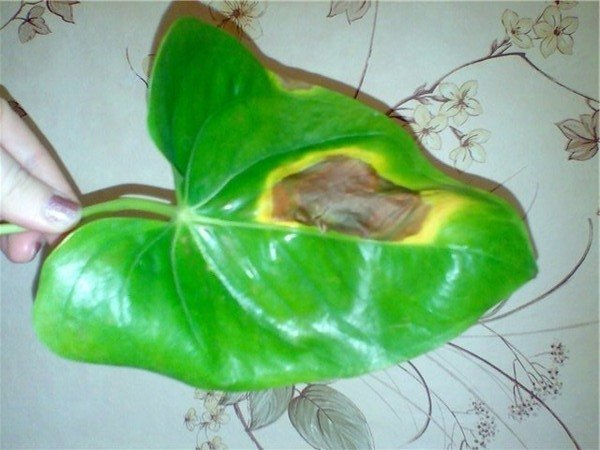unhealthy: (120, 102, 535, 406)
